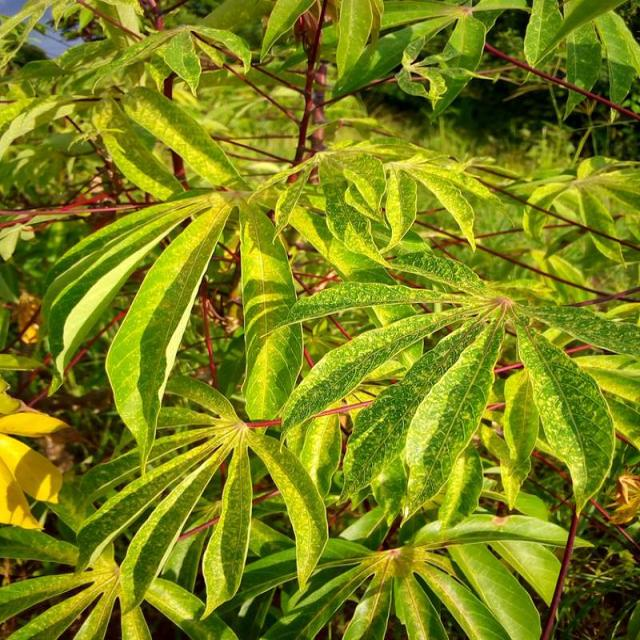cassava leaf: (1, 2, 638, 637), (103, 194, 233, 477), (512, 318, 615, 517)
